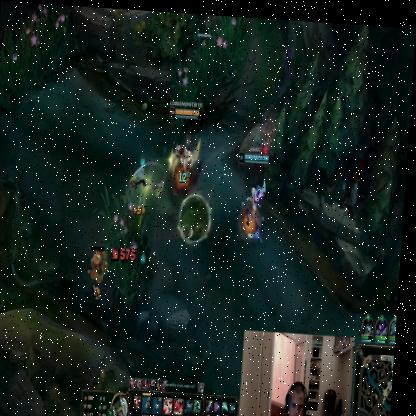streamer: (271, 373, 334, 416)
